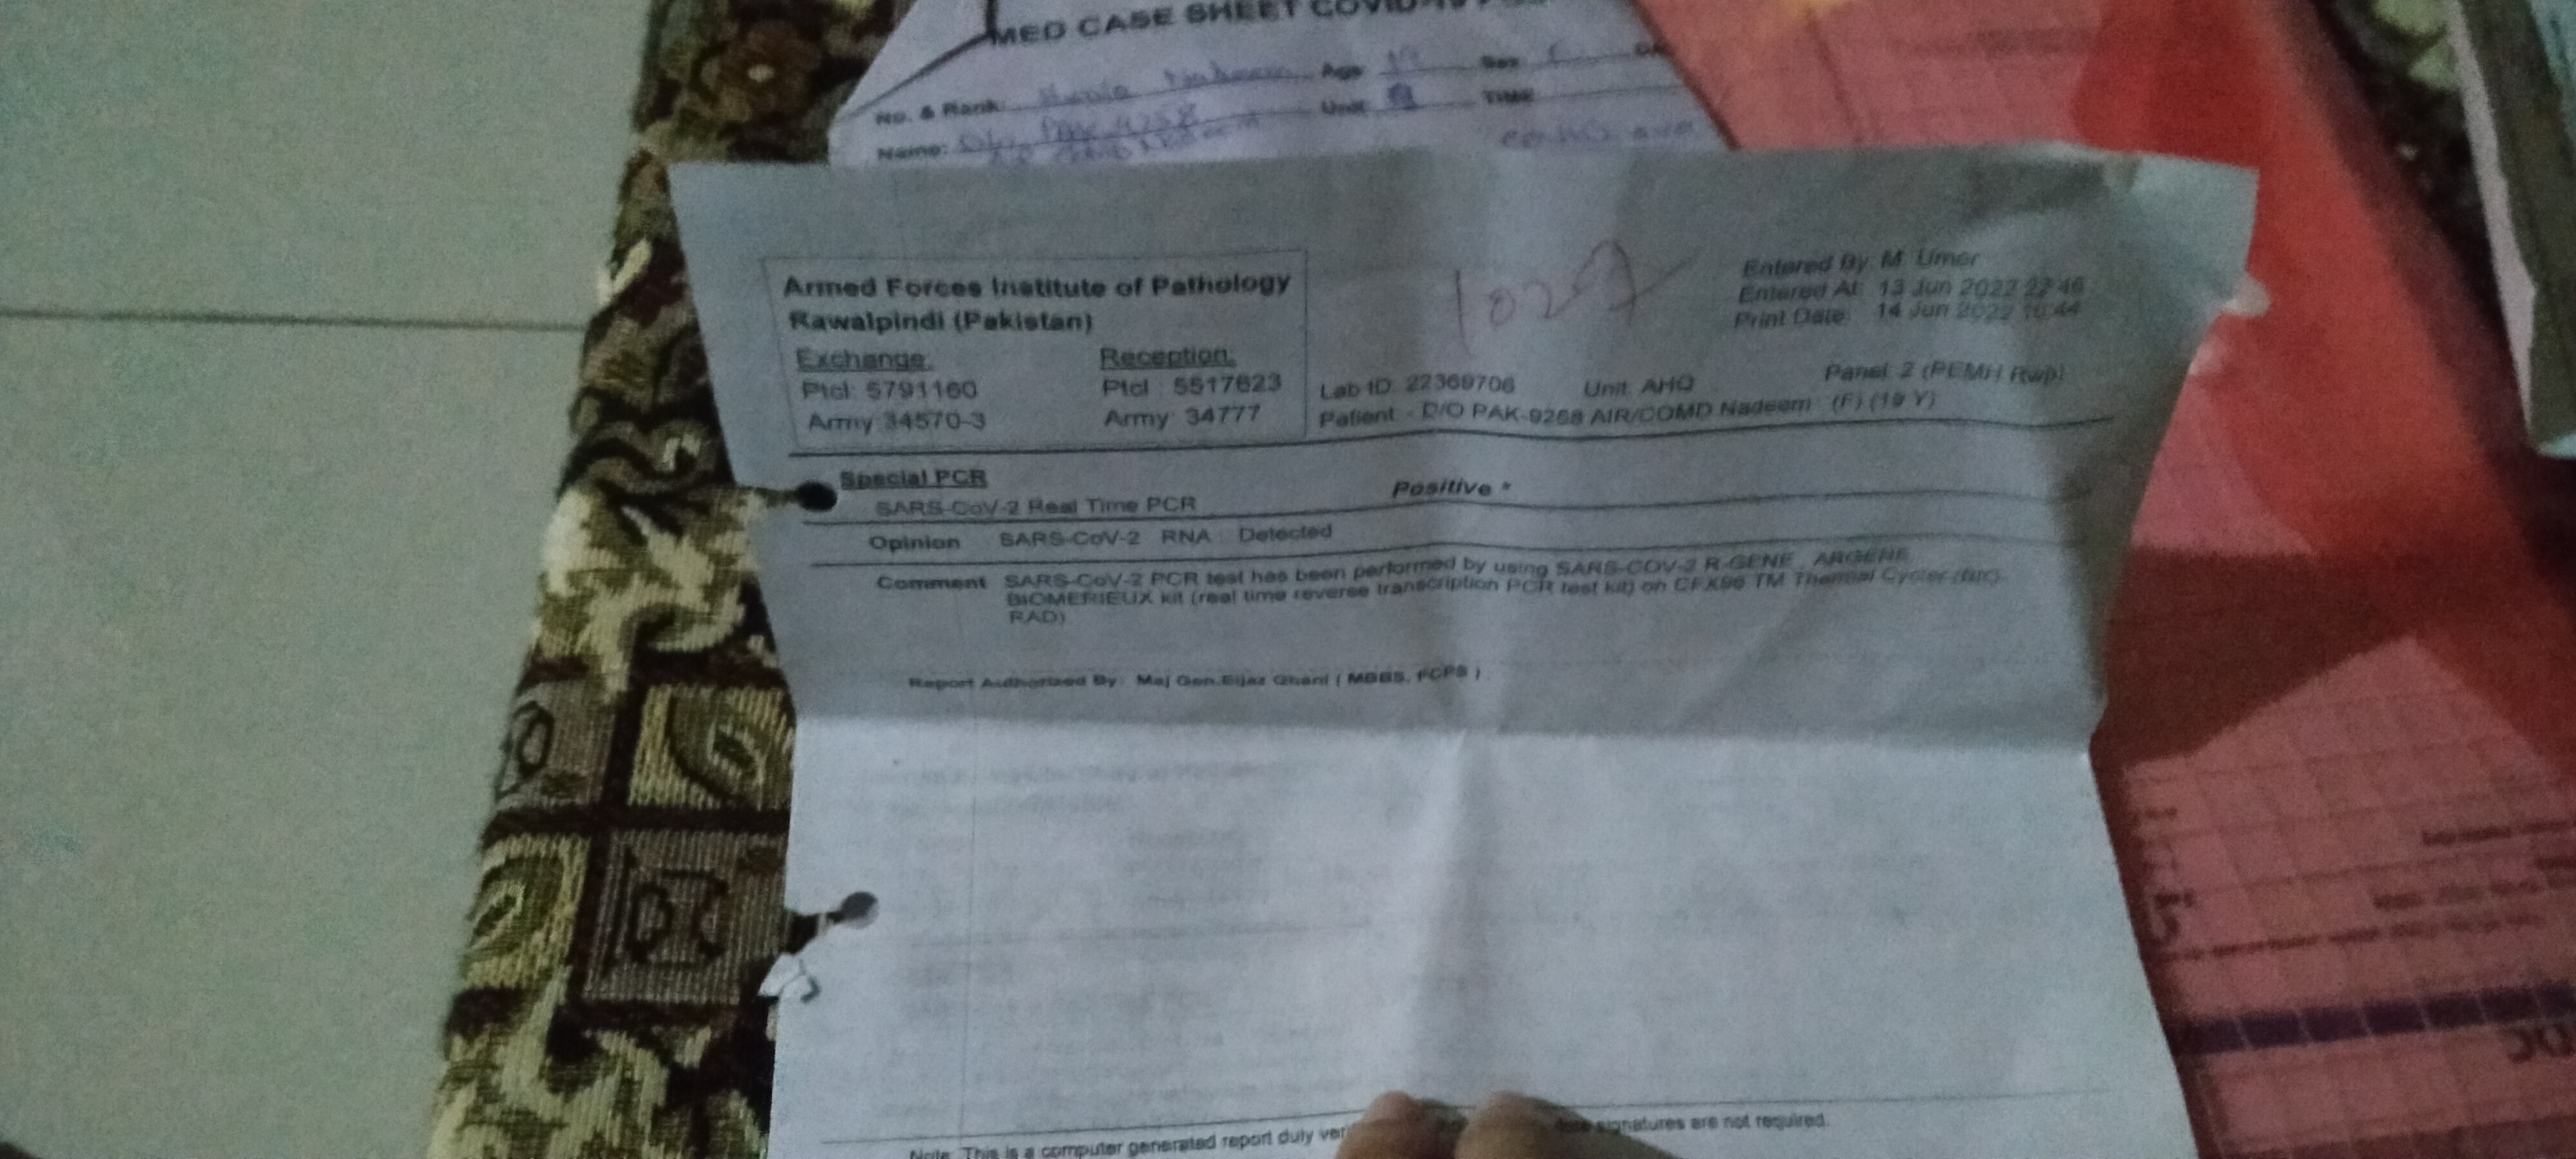report: (800, 515, 2072, 639)
